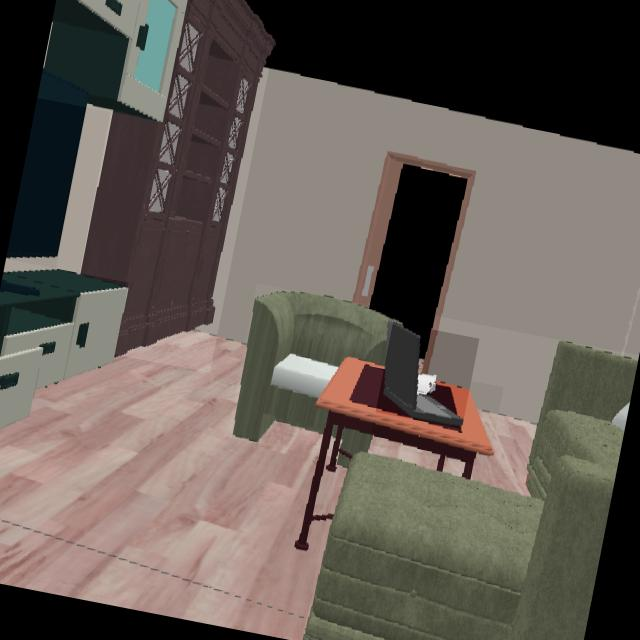bookshelf: (80, 0, 274, 355)
cabinet: (0, 269, 128, 429), (51, 0, 190, 119)
laptop: (383, 321, 463, 425)
monitor: (6, 69, 89, 261)
sofa: (303, 342, 638, 640), (234, 292, 387, 443)
table: (315, 357, 491, 464)
